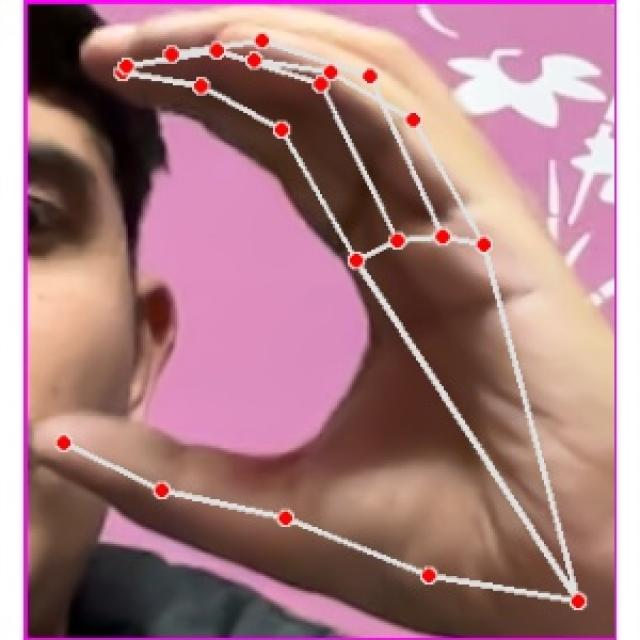C: (53, 9, 616, 637)
